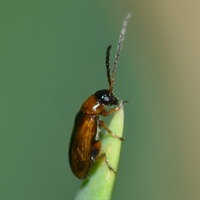insect: (69, 13, 131, 178)
